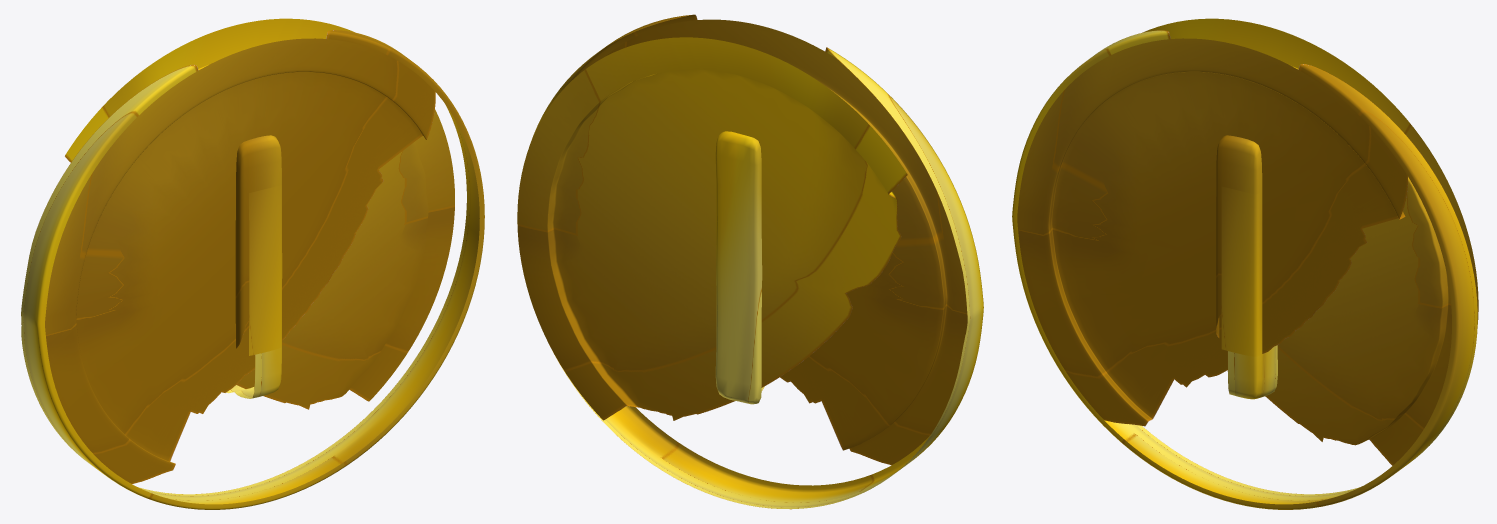
File: coin 1.fbx
3 renders of one model, left to right at view 1: azimuth 30°, elevation 25°; view 2: azimuth 150°, elevation 25°; view 3: azimuth 330°, elevation 25°, orthographic.
Visible parts, largest first — view 1: coin; view 2: coin; view 3: coin.
Part boxes in pixels (x1,y1,x2,y2): coin: (21,18,484,509); coin: (517,14,983,509); coin: (1012,18,1478,509).
Bounding box in the file's own units: 199 × 199 × 20.01.
